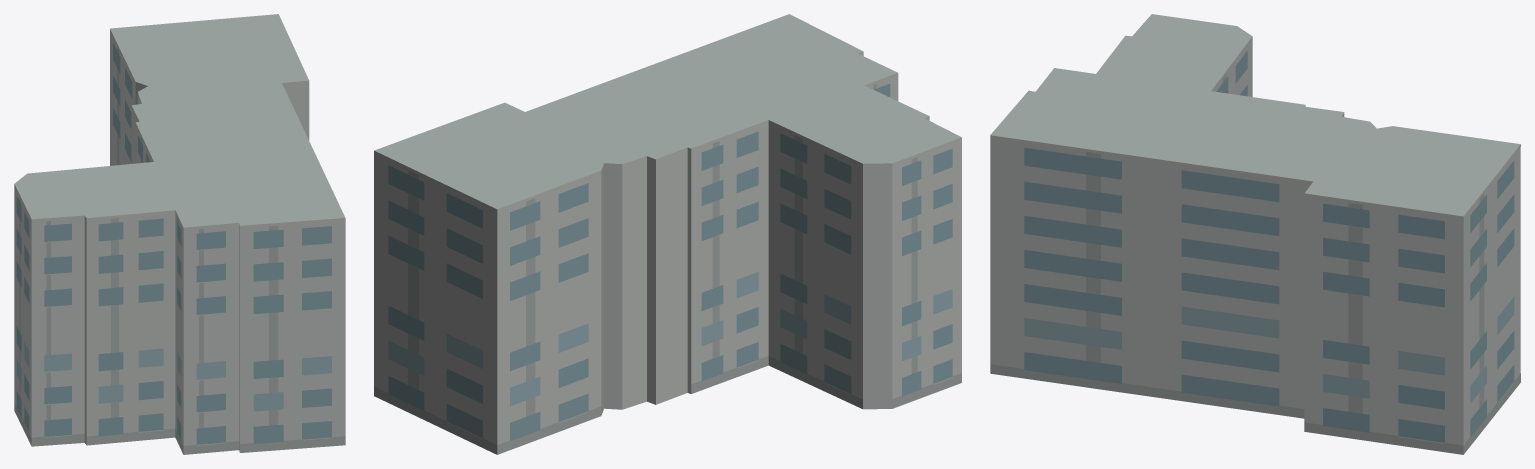
The model's file is survey-upis-32705369.glb.
The picture shows the model from 3 angles, left to right: view 1: azimuth 30°, elevation 25°; view 2: azimuth 150°, elevation 25°; view 3: azimuth 270°, elevation 25°; orthographic projection. The views are drawn at different scales.
Parts seen in each view (by area): view 1: survey-upis-32705369.tmp; view 2: survey-upis-32705369.tmp; view 3: survey-upis-32705369.tmp.
Part boxes in pixels (x1=…): survey-upis-32705369.tmp: x1=14, y1=14, x2=345, y2=454; survey-upis-32705369.tmp: x1=374, y1=14, x2=961, y2=454; survey-upis-32705369.tmp: x1=990, y1=14, x2=1520, y2=454.
Size of the model in its own units: 36.25 by 19.9 by 40.15.
